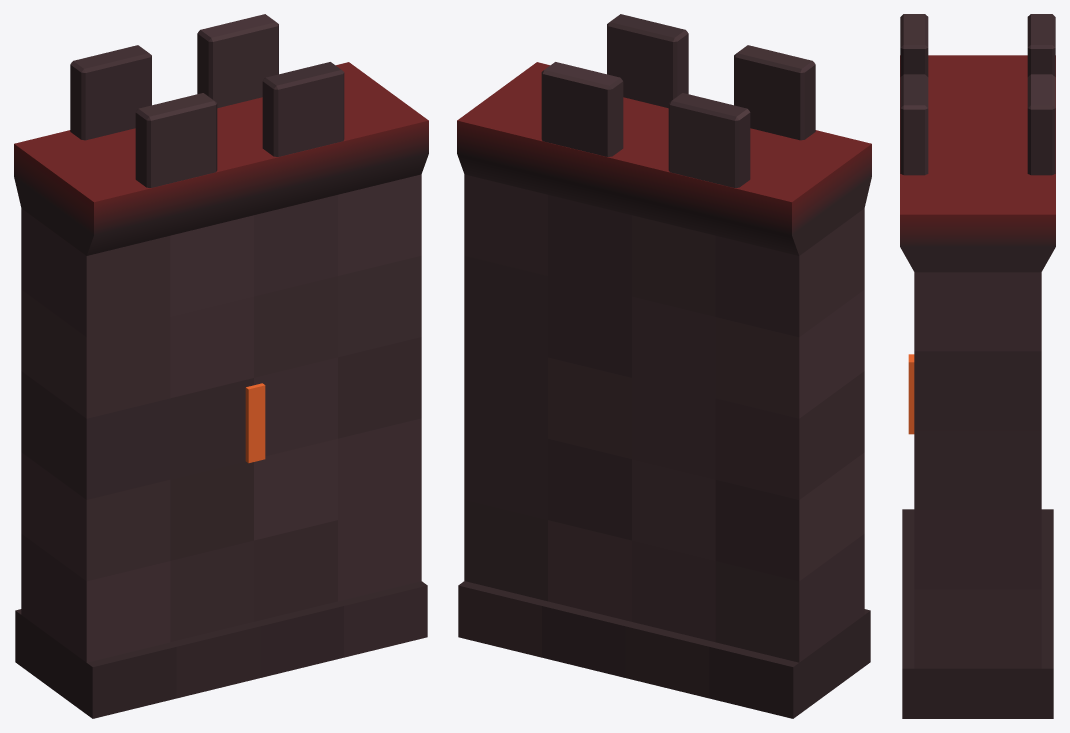
The model's file is citadel_wall.glb.
3 renders of one model, left to right at view 1: azimuth 30°, elevation 25°; view 2: azimuth 150°, elevation 25°; view 3: azimuth 270°, elevation 25°, orthographic. The views are drawn at different scales.
Visible parts, largest first — view 1: citadel_wall, Cube.004; view 2: citadel_wall; view 3: citadel_wall, Cube.004.
Boxes of the visible parts, x1,y1,x2,y2 form: citadel_wall: (14, 14, 428, 718); Cube.004: (245, 383, 265, 463); citadel_wall: (457, 14, 871, 718); citadel_wall: (900, 14, 1055, 718); Cube.004: (908, 354, 914, 434).
Bounding box in the file's own units: 4.74 × 7.95 × 1.96.
